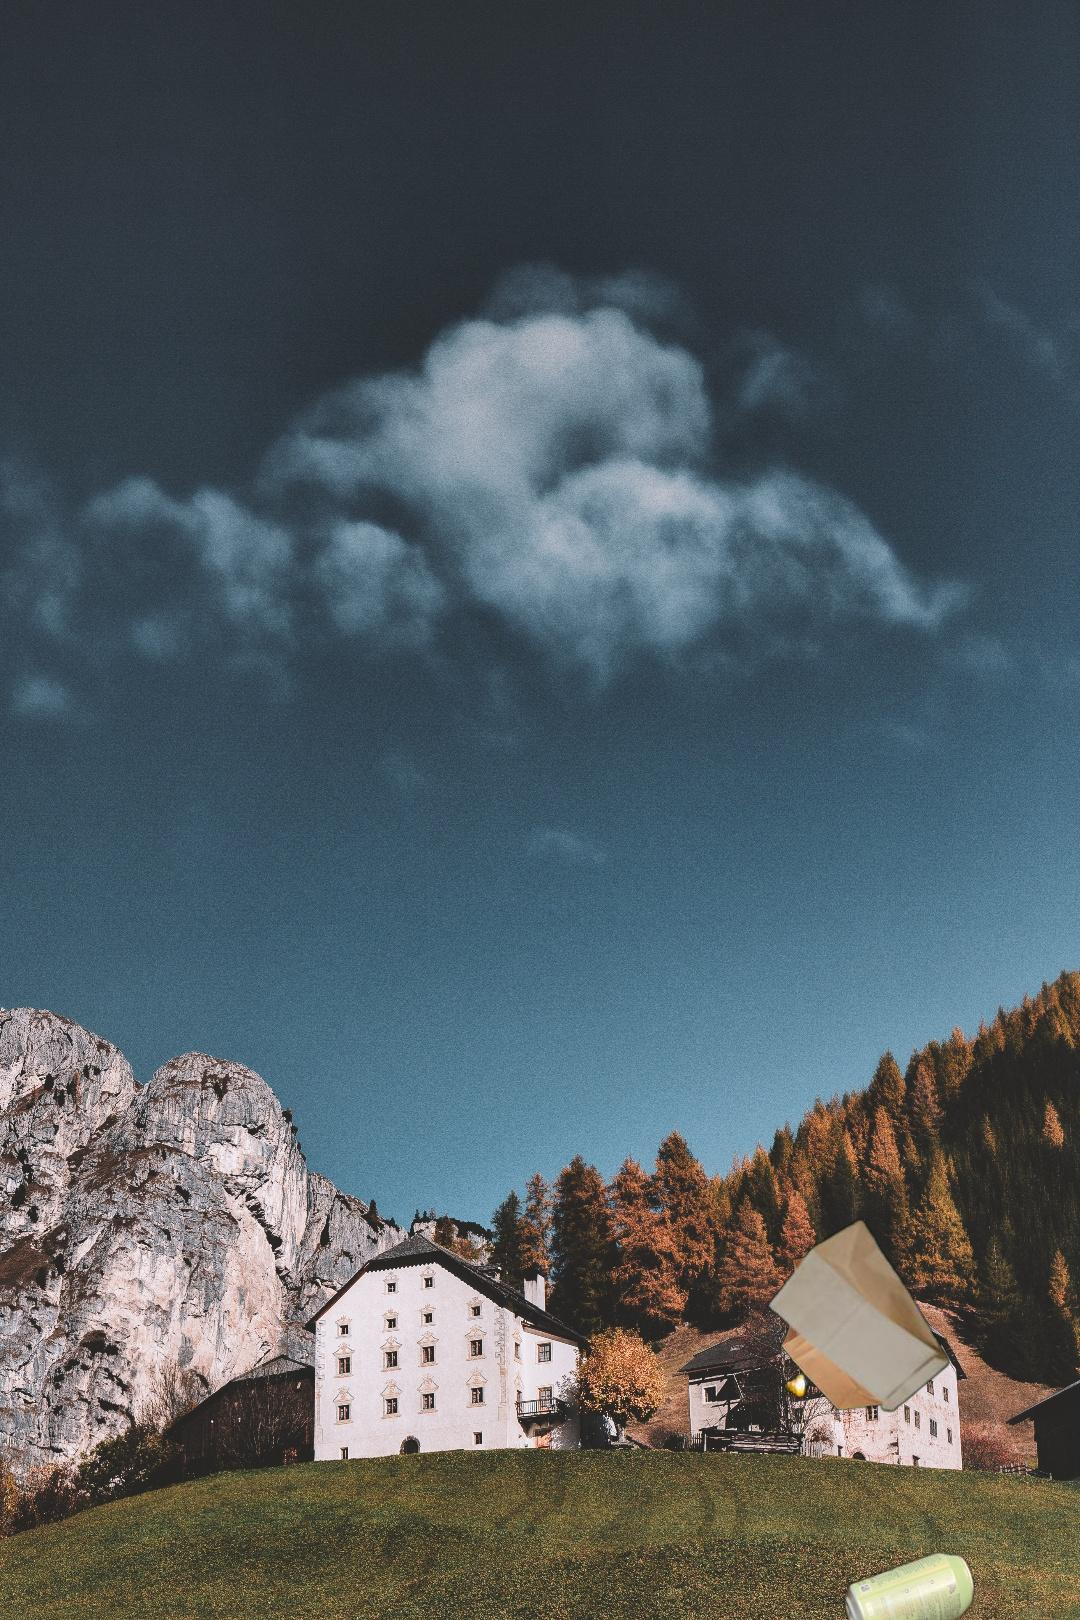metal-cans: (703, 1546, 980, 1620)
paper-bag: (762, 1214, 952, 1414)
